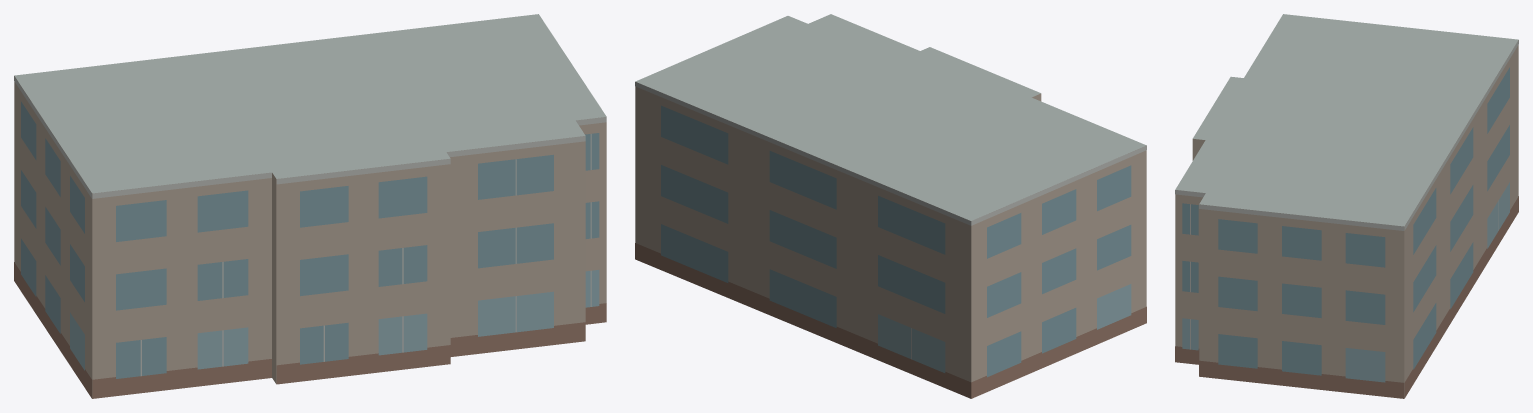
Rendered from survey-upis-32808645.glb.
3 renders of one model, left to right at view 1: azimuth 30°, elevation 25°; view 2: azimuth 150°, elevation 25°; view 3: azimuth 270°, elevation 25°, orthographic. The views are drawn at different scales.
Visible parts, largest first — view 1: survey-upis-32808645.tmp; view 2: survey-upis-32808645.tmp; view 3: survey-upis-32808645.tmp.
Part boxes in pixels (x1,y1,x2,y2): survey-upis-32808645.tmp: (14,14,606,398); survey-upis-32808645.tmp: (635,14,1146,398); survey-upis-32808645.tmp: (1175,14,1518,398).
Size of the model in its own units: 24.2 by 9.15 by 16.54.
